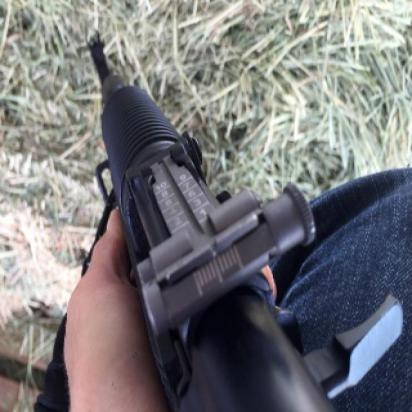Gun: (72, 24, 331, 410)
